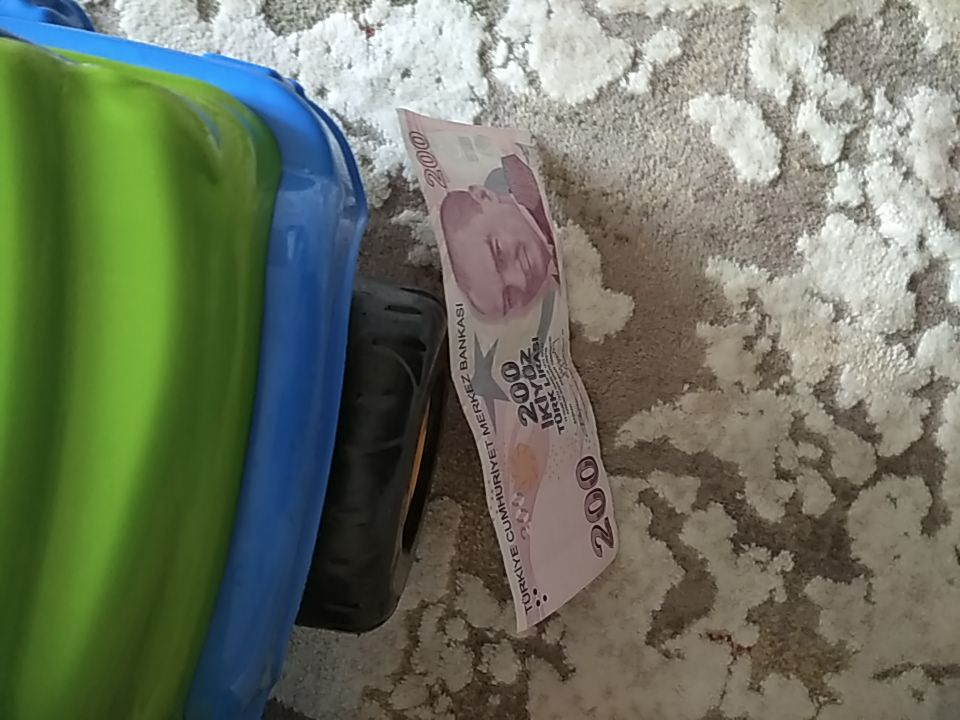200TL: (391, 106, 621, 635)
